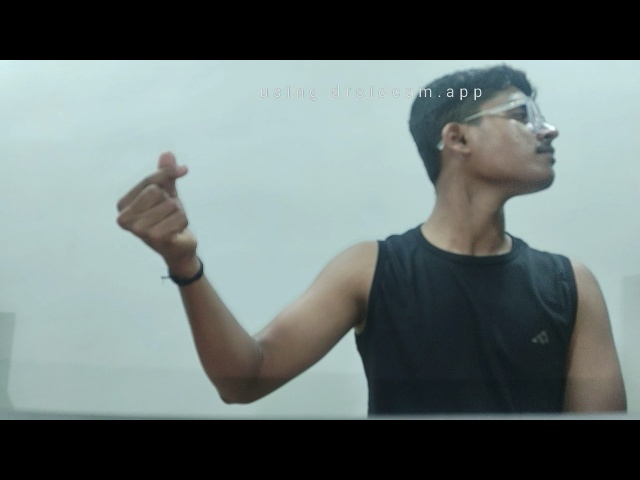iloveu: (107, 144, 209, 277)
